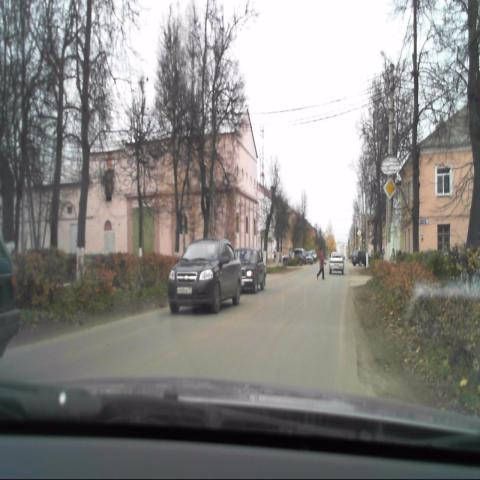2_1: (384, 177, 396, 202)
